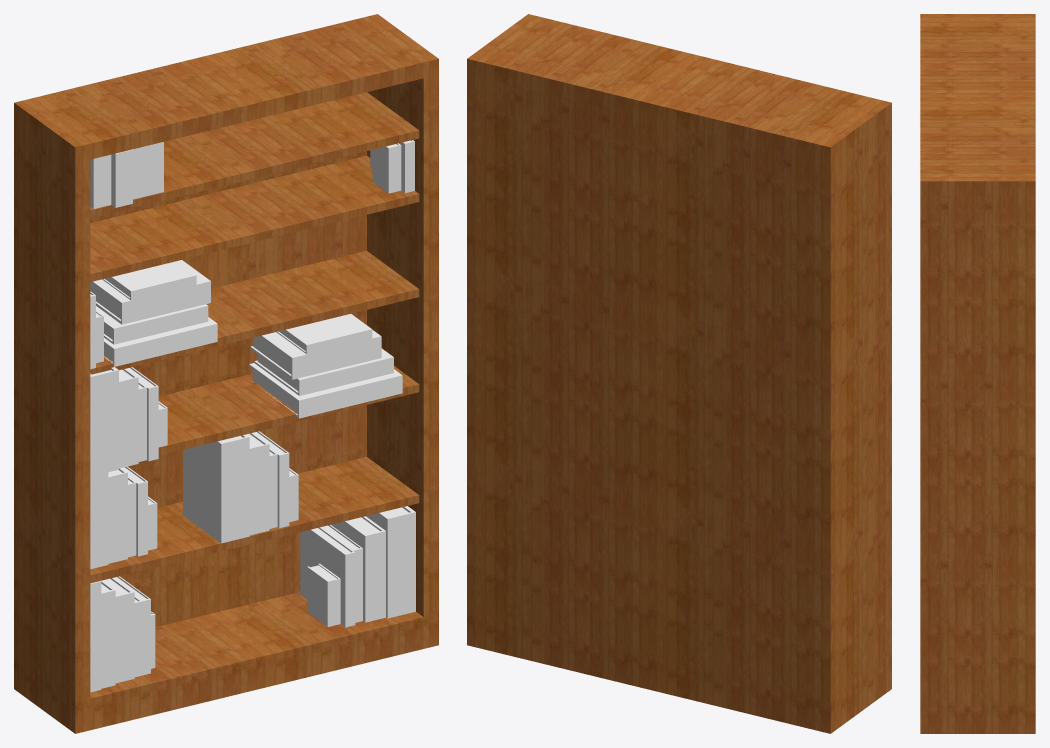
The model's file is bookshelf_simple.fbx.
3 views of the same model, side by side, from view 1: azimuth 30°, elevation 25°; view 2: azimuth 150°, elevation 25°; view 3: azimuth 270°, elevation 25° (orthographic). The views are drawn at different scales.
Visible parts, largest first — view 1: instance_1_books2_instance_2_book8; view 2: instance_1_books2_instance_2_book8; view 3: instance_1_books2_instance_2_book8.
Part boxes in pixels (x1,y1,x2,y2): instance_1_books2_instance_2_book8: (14,14,438,733); instance_1_books2_instance_2_book8: (467,14,891,733); instance_1_books2_instance_2_book8: (920,14,1035,733).
Bounding box in the file's own units: 122 × 188 × 35.56.
Materials: 2 (1 with a texture image).
